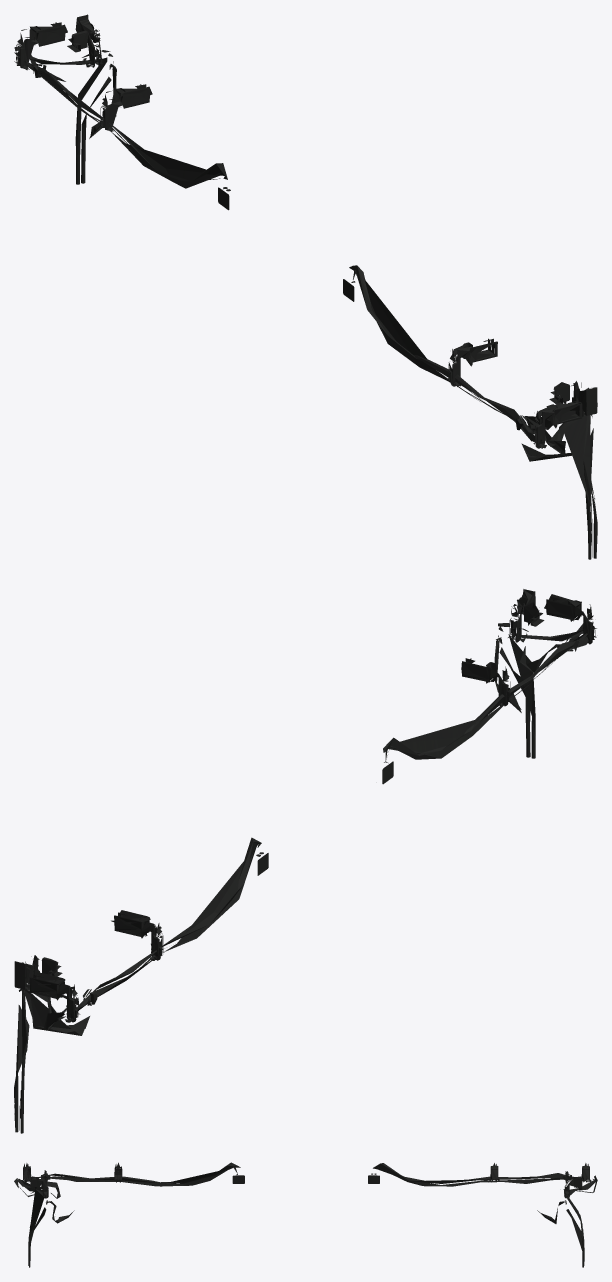
Rendered from electrical_cable_a01.glb.
3 renders of one model, top to bottom at view 1: azimuth 30°, elevation 25°; view 2: azimuth 150°, elevation 25°; view 3: azimuth 270°, elevation 25°, orthographic. The views are drawn at different scales.
Parts seen in each view (by area): view 1: geometry_0; view 2: geometry_0; view 3: geometry_0.
Boxes of the visible parts, left/top/right/bottom form: geometry_0: left=14, top=14, right=597, bottom=559; geometry_0: left=14, top=589, right=596, bottom=1133; geometry_0: left=14, top=1162, right=597, bottom=1267.
Size of the model in its own units: 0.0355 by 0.073 by 0.42.
1 material, 1 textured.
